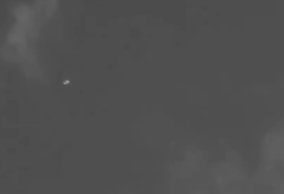Target: (64, 81, 69, 84)
